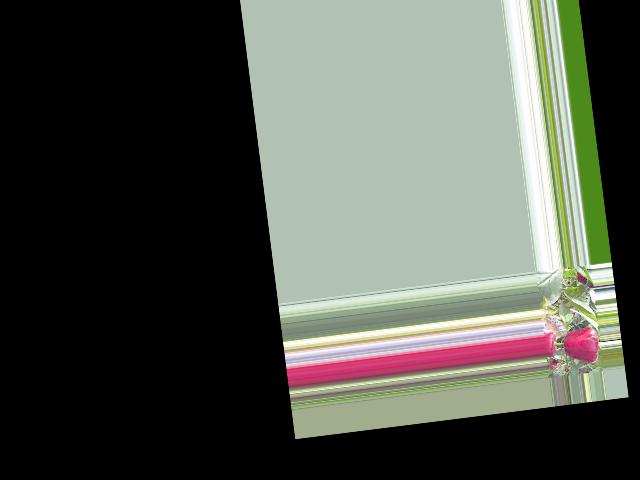bell_pepper: (542, 329, 560, 358)
